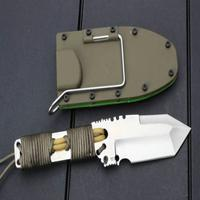knife: (5, 111, 196, 171)
